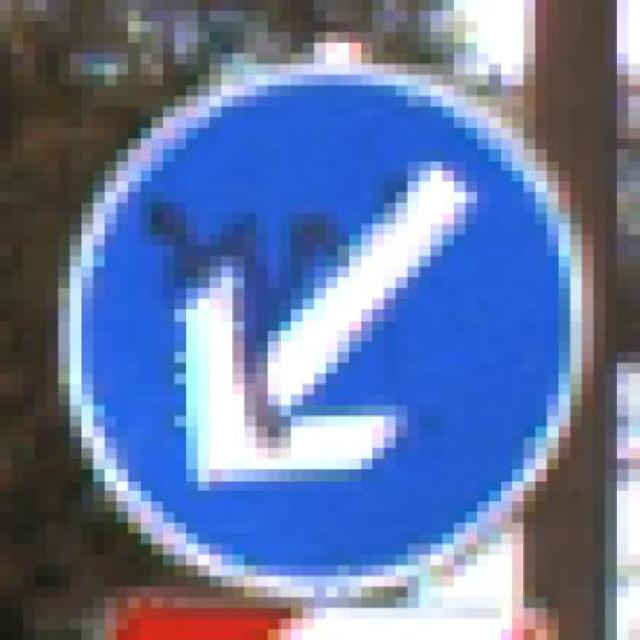Keep-Left: (58, 42, 605, 620)
